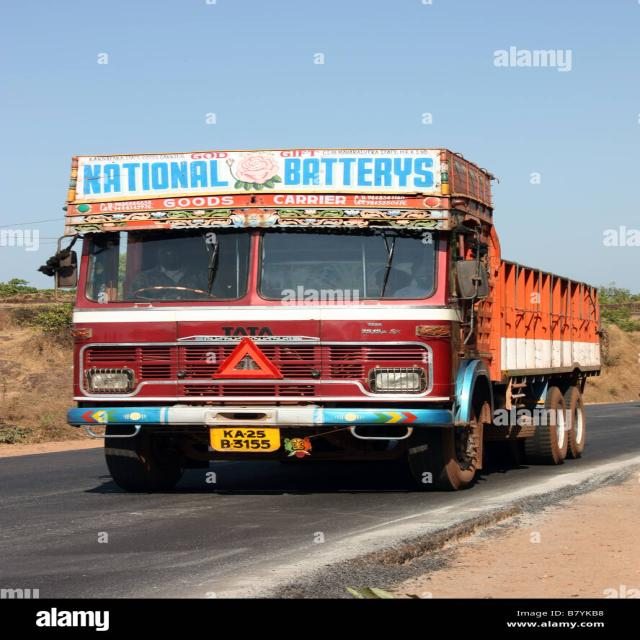Vehicles: (43, 137, 611, 500)
